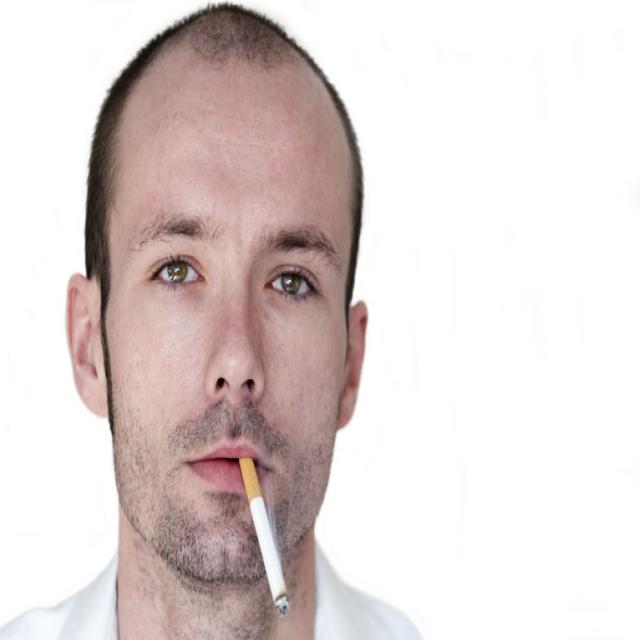smoking: (230, 456, 292, 618)
